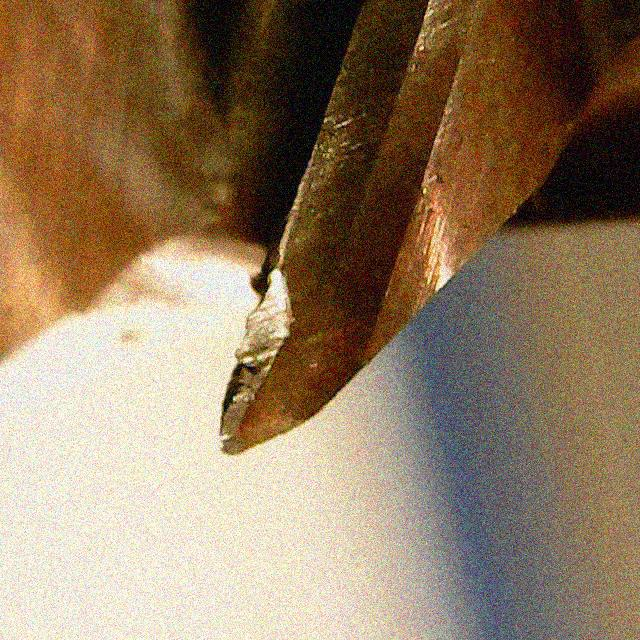Tool-wear-class-3: (184, 138, 400, 473)
